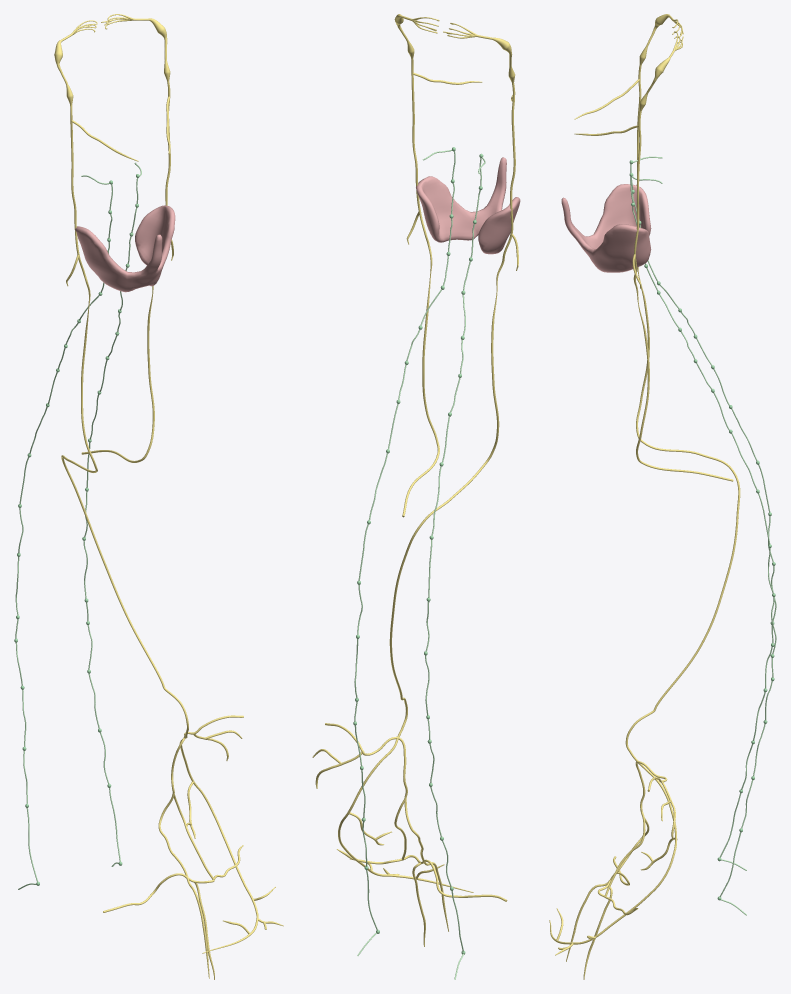
File: za-nerves-thyroid.glb
3 renders of one model, left to right at view 1: azimuth 30°, elevation 25°; view 2: azimuth 150°, elevation 25°; view 3: azimuth 270°, elevation 25°, orthographic. The views are drawn at different scales.
Parts seen in each view (by area): view 1: right_vagus_nerve, thyroid_gland, left_vagus_nerve, right_sympathetic_trunk, left_sympathetic_trunk; view 2: right_vagus_nerve, thyroid_gland, left_vagus_nerve, left_sympathetic_trunk, right_sympathetic_trunk; view 3: right_vagus_nerve, thyroid_gland, left_vagus_nerve, left_sympathetic_trunk, right_sympathetic_trunk.
Boxes of the visible parts, <box> form: right_vagus_nerve: <box>54,20,283,979</box>; thyroid_gland: <box>75,205,175,292</box>; left_vagus_nerve: <box>81,14,173,462</box>; right_sympathetic_trunk: <box>15,175,112,889</box>; left_sympathetic_trunk: <box>83,162,141,866</box>; right_vagus_nerve: <box>312,23,518,946</box>; thyroid_gland: <box>416,157,520,254</box>; left_vagus_nerve: <box>394,14,482,517</box>; left_sympathetic_trunk: <box>354,149,455,955</box>; right_sympathetic_trunk: <box>425,157,485,979</box>; right_vagus_nerve: <box>549,14,740,979</box>; thyroid_gland: <box>561,184,651,272</box>; left_vagus_nerve: <box>574,32,733,481</box>; left_sympathetic_trunk: <box>630,176,776,915</box>; right_sympathetic_trunk: <box>630,156,776,870</box>.
Size of the model in its own units: 0.0988 by 0.4709 by 0.1055.
